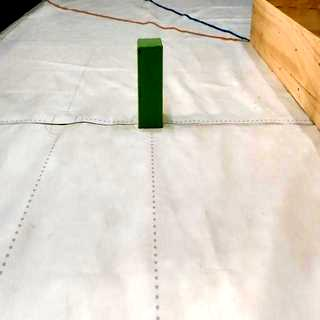greenbox: (136, 36, 165, 128)
